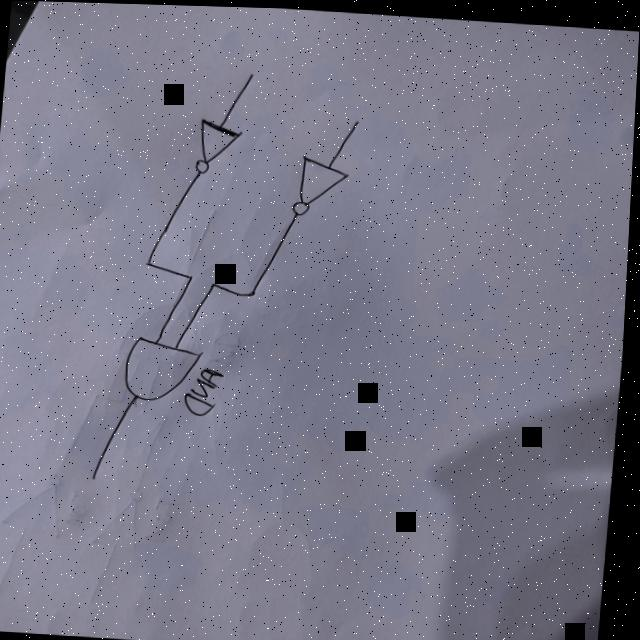junction: (245, 283, 262, 297), (142, 256, 156, 266), (207, 277, 221, 287), (186, 271, 198, 279)
terminal: (242, 63, 260, 85), (347, 111, 365, 130), (92, 468, 105, 479)
text: (185, 361, 229, 413)
